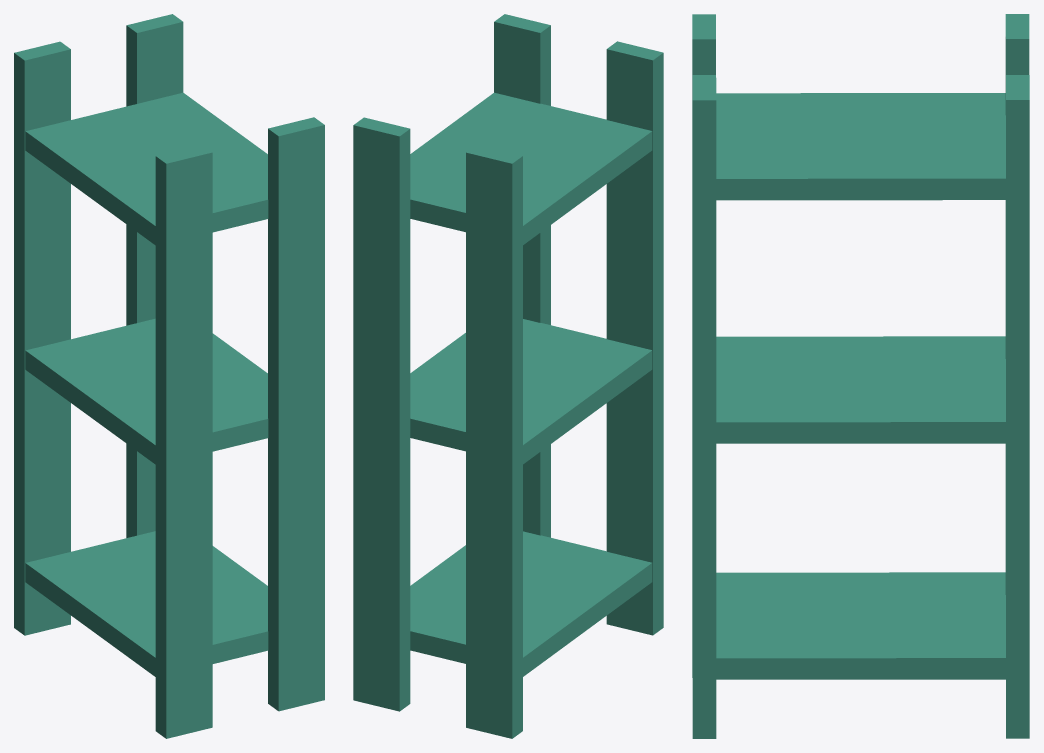
Rendered from Kitchen_Rack.fbx.
3 views of the same model, side by side, from view 1: azimuth 30°, elevation 25°; view 2: azimuth 150°, elevation 25°; view 3: azimuth 270°, elevation 25° (orthographic). The views are drawn at different scales.
Visible parts, largest first — view 1: Kitchen_Rack; view 2: Kitchen_Rack; view 3: Kitchen_Rack.
Part boxes in pixels (x1=…): Kitchen_Rack: x1=14, y1=14, x2=324, y2=738; Kitchen_Rack: x1=353, y1=14, x2=663, y2=738; Kitchen_Rack: x1=692, y1=14, x2=1029, y2=738.
Bounding box in the file's own units: 75.99 × 262 × 126.
